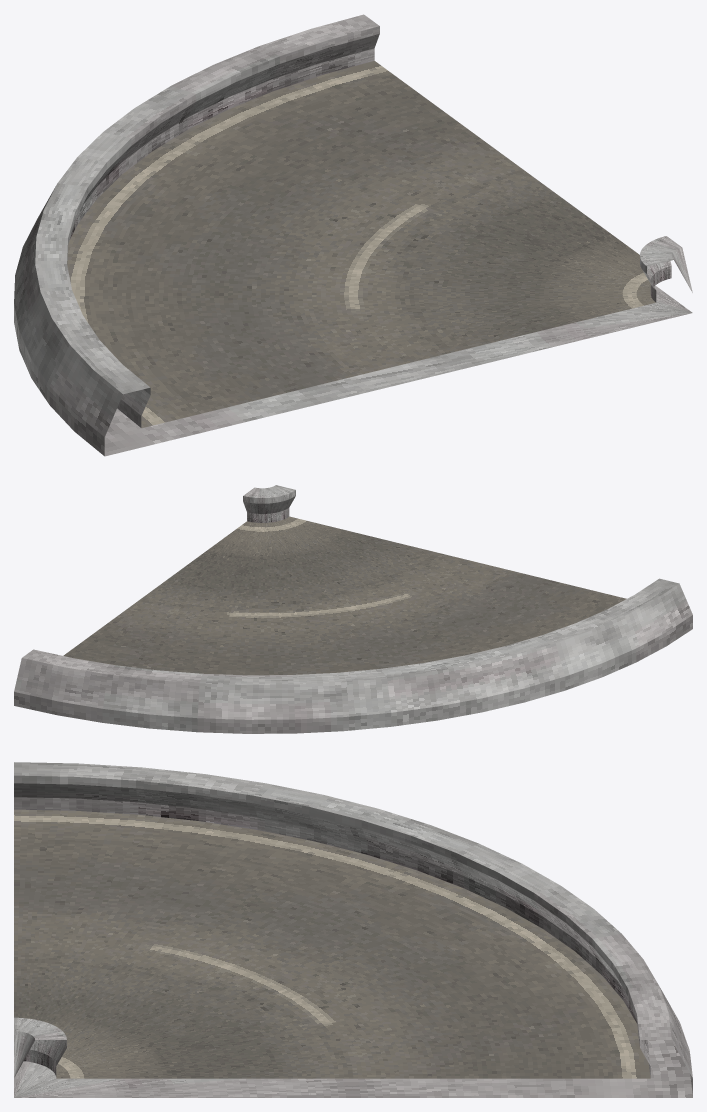
File: road-Turn-Flat-Flat-Even-Right-Size1.glb
3 views of the same model, one above another, from view 1: azimuth 30°, elevation 25°; view 2: azimuth 150°, elevation 25°; view 3: azimuth 270°, elevation 25° (orthographic). The views are drawn at different scales.
Visible parts, largest first — view 1: road-Turn-Flat-Flat-Even-Right-Size1; view 2: road-Turn-Flat-Flat-Even-Right-Size1; view 3: road-Turn-Flat-Flat-Even-Right-Size1.
Boxes of the visible parts, x1=… form: road-Turn-Flat-Flat-Even-Right-Size1: x1=14, y1=14, x2=692, y2=456; road-Turn-Flat-Flat-Even-Right-Size1: x1=14, y1=485, x2=692, y2=733; road-Turn-Flat-Flat-Even-Right-Size1: x1=14, y1=762, x2=692, y2=1097.
Bounding box in the file's own units: 1 × 0.0938 × 1.
2 materials, 2 textured.
